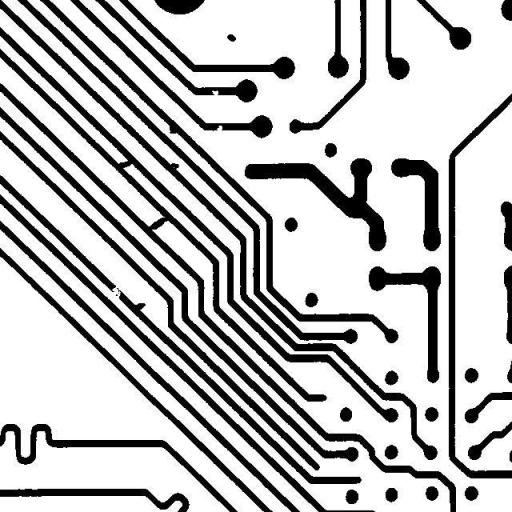copper: (219, 26, 243, 49)
mousebite: (208, 118, 230, 138), (204, 82, 226, 102)
open: (104, 277, 128, 306)
short: (138, 210, 175, 239), (110, 150, 144, 176)
spur: (125, 295, 153, 318), (161, 114, 184, 141), (161, 155, 186, 178)
